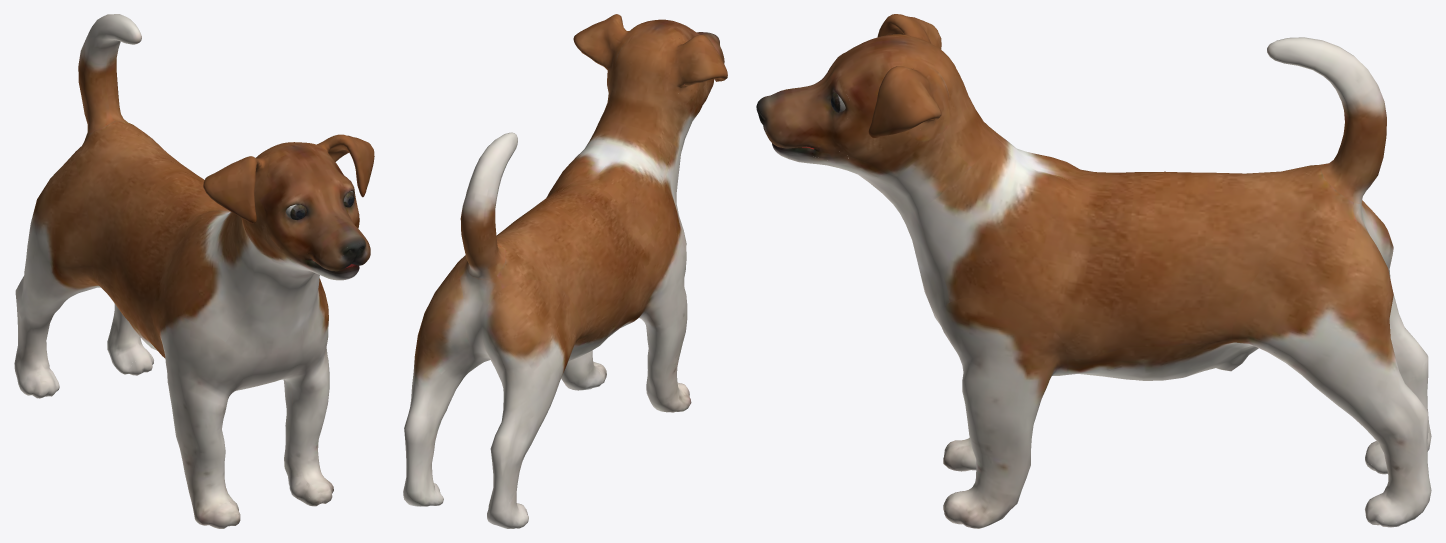
Rendered from chien_jackrussell.glb.
3 renders of one model, left to right at view 1: azimuth 30°, elevation 25°; view 2: azimuth 150°, elevation 25°; view 3: azimuth 270°, elevation 25°, orthographic. The views are drawn at different scales.
Parts seen in each view (by area): view 1: Object_2; view 2: Object_2; view 3: Object_2.
Part boxes in pixels (x1,y1,x2,y2): Object_2: (14,14,374,528); Object_2: (403,14,727,528); Object_2: (756,14,1431,528).
Bounding box in the file's own units: 13.71 × 30.52 × 40.97.
Materials: 2 (2 with a texture image).
